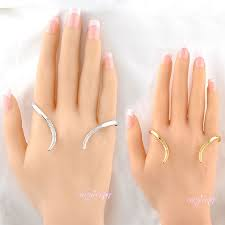hand: (5, 4, 123, 205), (128, 33, 221, 210)
